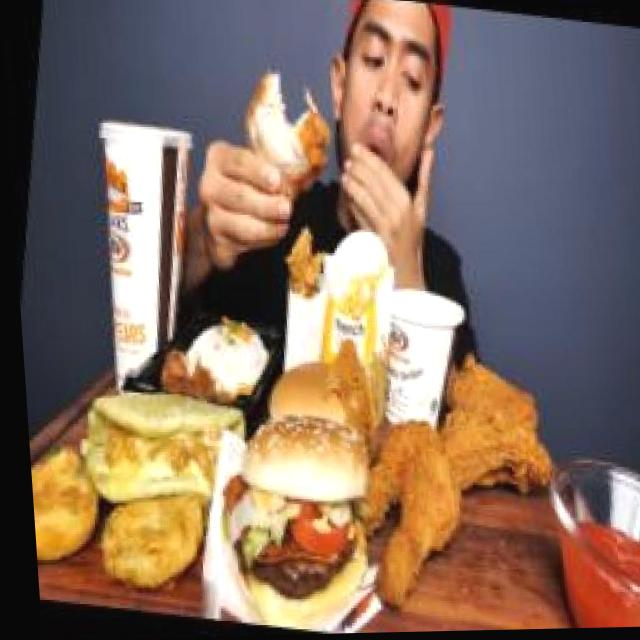AW cola: (56, 102, 211, 392)
black pepper rice bowl: (144, 295, 285, 418)
cheese burger: (253, 339, 353, 431)
chicken waffle: (269, 217, 333, 336)
crispy corn: (365, 274, 477, 444)
french fries: (313, 241, 393, 343)
fried chicken: (323, 333, 572, 635), (218, 47, 352, 234), (303, 334, 378, 435)
mozza burger: (190, 381, 389, 637), (61, 368, 257, 519)
perkedel: (79, 460, 214, 595), (22, 419, 110, 563)
